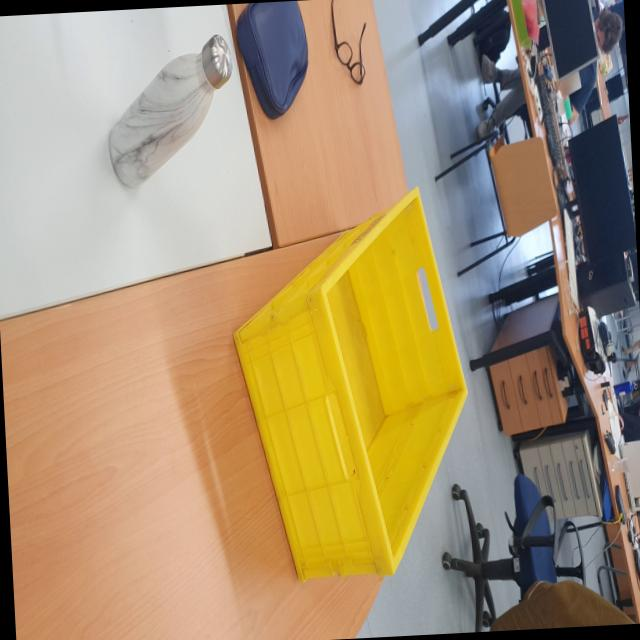box: (218, 175, 481, 602)
